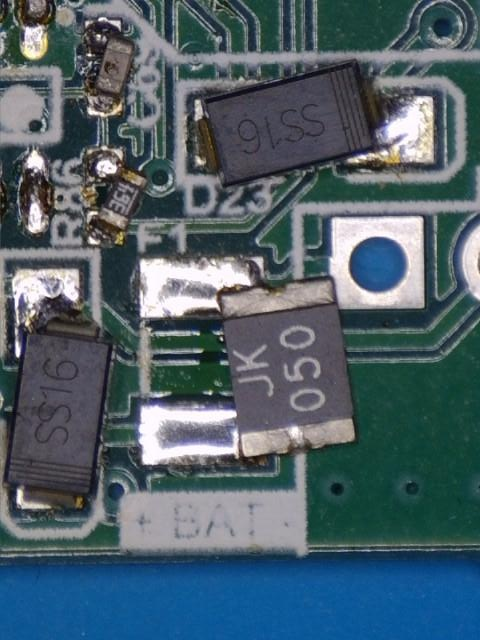pcb_defect: (137, 254, 359, 469), (193, 58, 439, 190), (136, 214, 426, 323), (3, 261, 114, 517), (82, 144, 150, 249), (83, 18, 136, 118)
